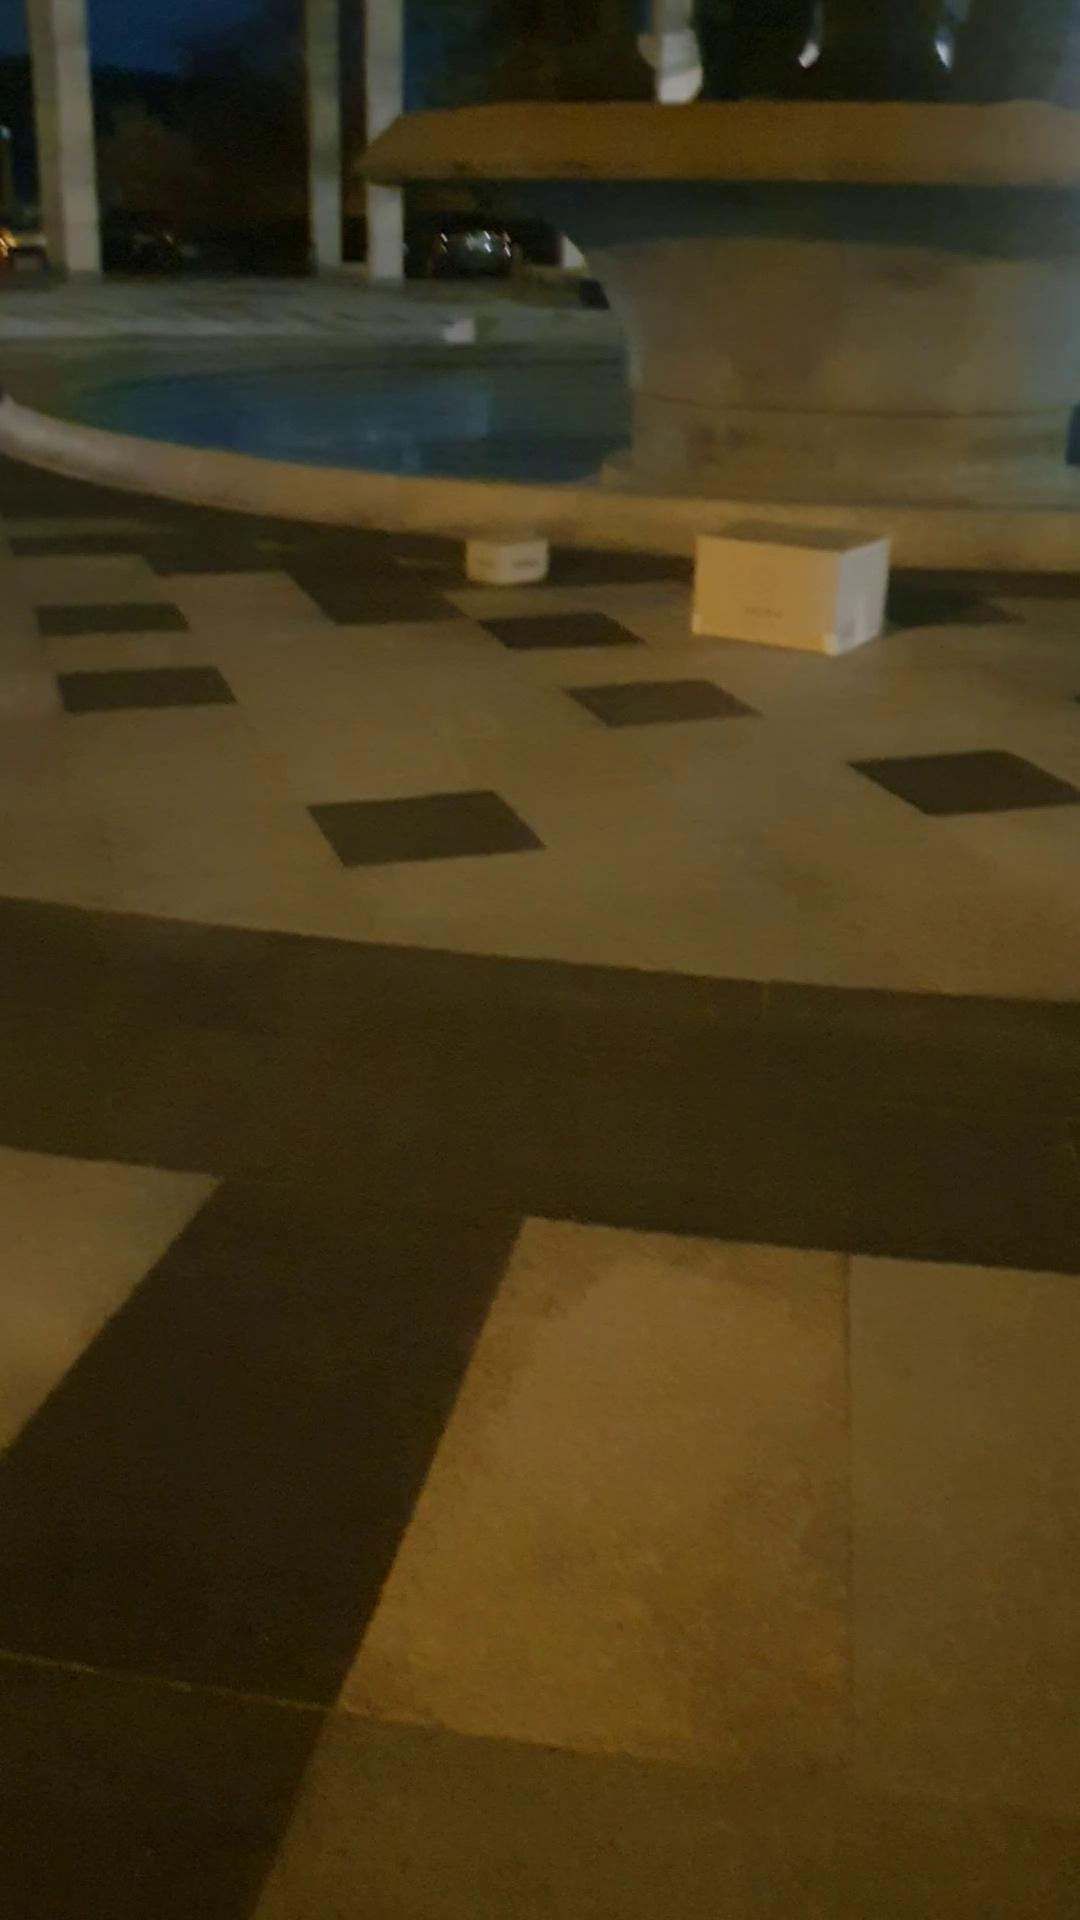Box: (680, 510, 887, 662), (462, 518, 549, 597)
